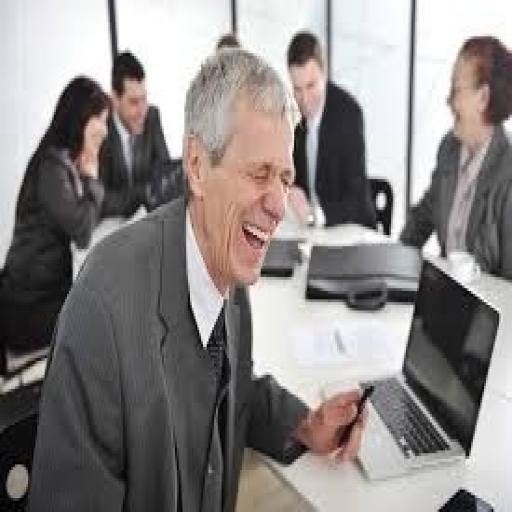laughing: (26, 39, 372, 504)
